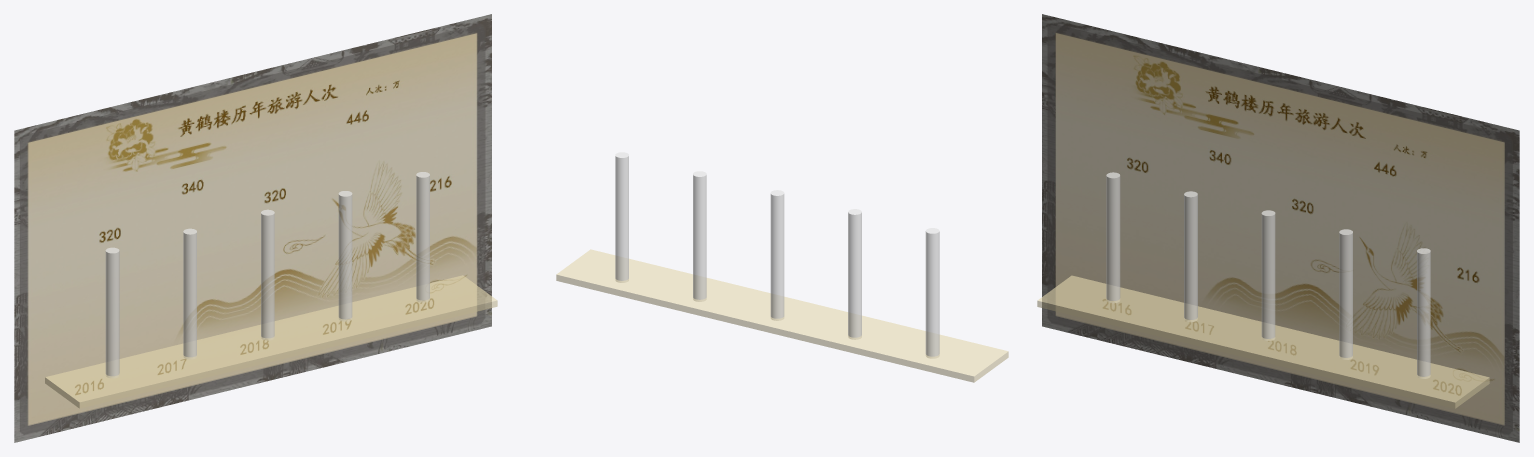
File: DataDisplay.gltf
3 views of the same model, side by side, from view 1: azimuth 30°, elevation 25°; view 2: azimuth 150°, elevation 25°; view 3: azimuth 330°, elevation 25° (orthographic).
Visible parts, largest first — view 1: DataBackground, X, 2016Data, 2019Data, 2020Data, 2017Data, 2018Data; view 2: X, 2018Data, 2016Data, 2019Data, 2017Data, 2020Data; view 3: DataBackground, X, 2018Data, 2016Data, 2017Data, 2019Data, 2020Data.
Part boxes in pixels (x1,y1,x2,y2): DataBackground: (14,14,491,442); X: (45,275,497,408); 2016Data: (105,247,119,377); 2019Data: (338,191,352,321); 2020Data: (416,172,429,302); 2017Data: (183,228,196,359); 2018Data: (261,209,274,340); X: (556,249,1008,382); 2018Data: (770,190,784,320); 2016Data: (925,228,939,358); 2019Data: (693,171,706,301); 2017Data: (848,209,861,339); 2020Data: (615,152,628,282); DataBackground: (1042,14,1519,442); X: (1037,275,1489,408); 2018Data: (1261,210,1275,340); 2016Data: (1106,172,1120,302); 2017Data: (1184,191,1197,321); 2019Data: (1339,229,1352,359); 2020Data: (1417,248,1430,378).
Bounding box in the file's own units: 8 × 5 × 1.01.
Materials: 7 (1 with a texture image).
